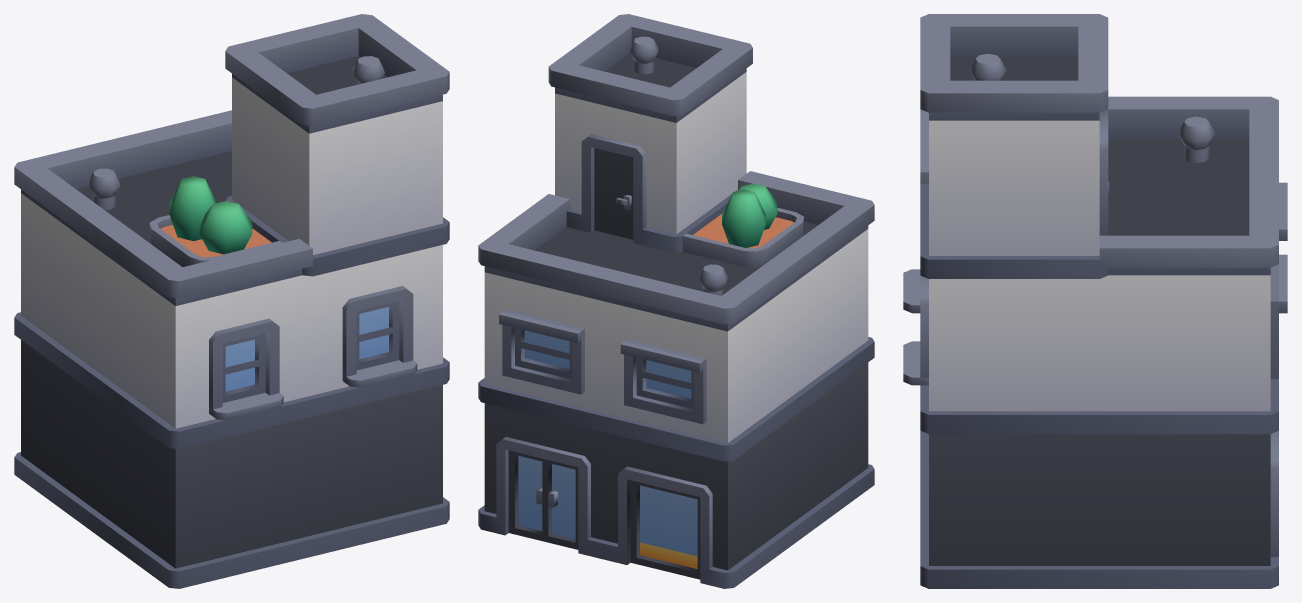
Rendered from building-d.glb.
3 views of the same model, side by side, from view 1: azimuth 30°, elevation 25°; view 2: azimuth 150°, elevation 25°; view 3: azimuth 270°, elevation 25° (orthographic). The views are drawn at different scales.
Visible parts, largest first — view 1: building-d; view 2: building-d; view 3: building-d.
Part boxes in pixels (x1,y1,x2,y2): building-d: [14, 14, 449, 588]; building-d: [478, 14, 874, 588]; building-d: [903, 14, 1287, 588].
Size of the model in its own units: 0.8401 by 1.29 by 0.9001.
Materials: 1 (1 with a texture image).
